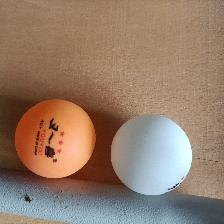WhiteBall: (110, 114, 192, 195)
YellowBall: (14, 98, 96, 178)
